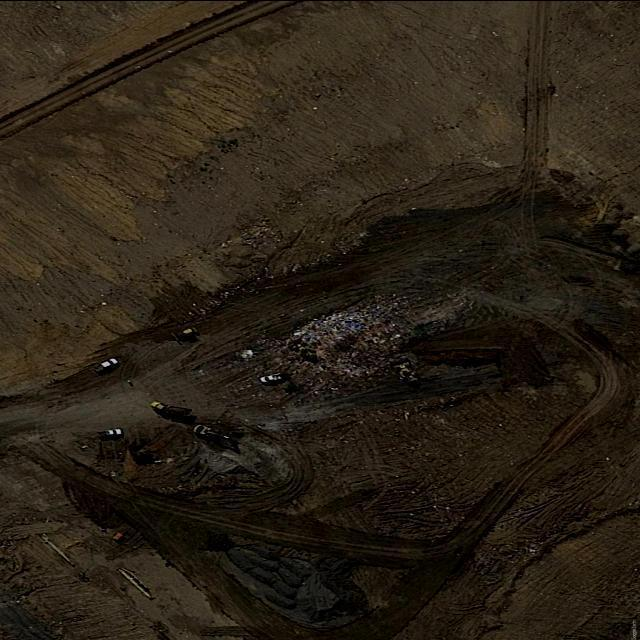dump_site: (257, 282, 454, 395)
